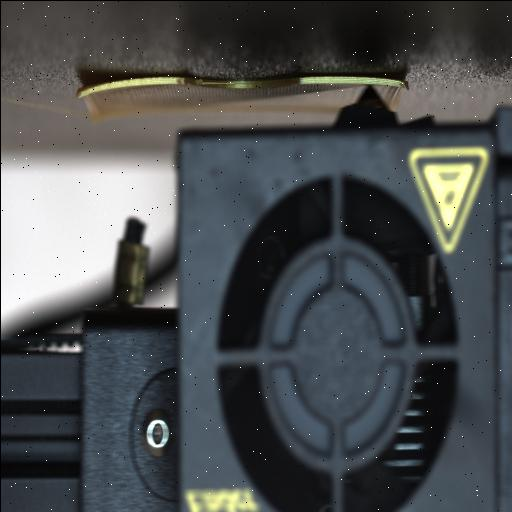warp: (77, 72, 185, 97), (302, 74, 412, 90)
